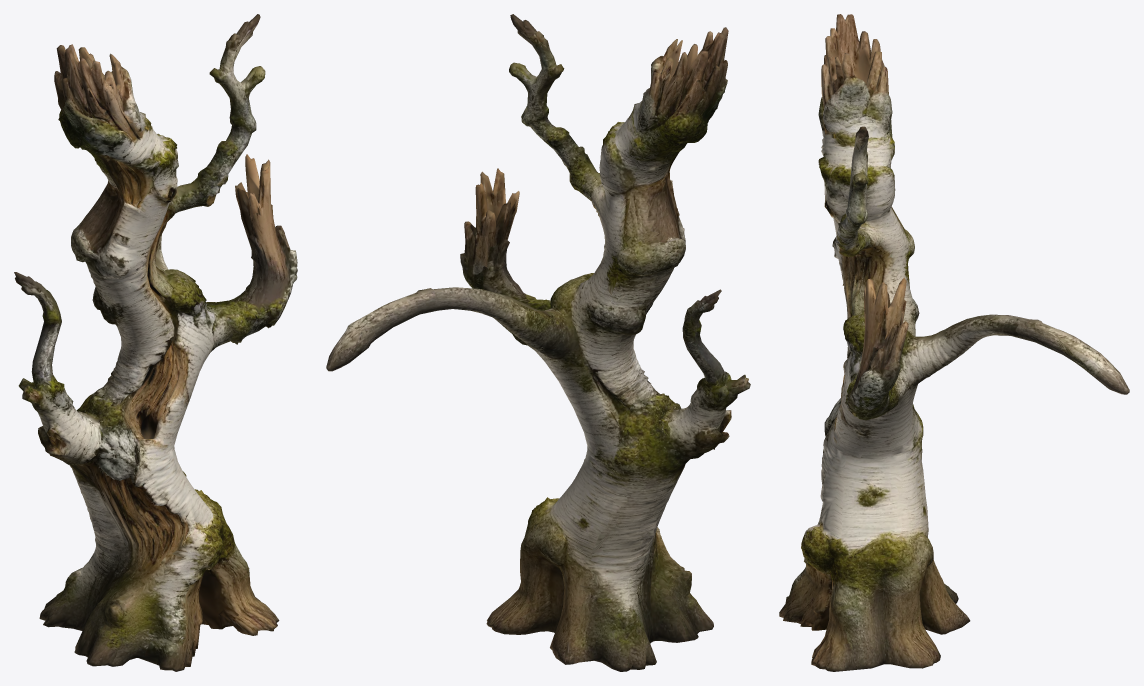
File: arvore-outono-1.glb
The picture shows the model from 3 angles, left to right: view 1: azimuth 30°, elevation 25°; view 2: azimuth 150°, elevation 25°; view 3: azimuth 270°, elevation 25°; orthographic projection. The views are drawn at different scales.
Visible parts, largest first — view 1: node_0; view 2: node_0; view 3: node_0.
Part boxes in pixels (x1,y1,x2,y2): node_0: (14,14,297,671); node_0: (326,14,750,671); node_0: (779,14,1129,671).
Bounding box in the file's own units: 3.88 × 8 × 4.48.
Materials: 1 (1 with a texture image).
